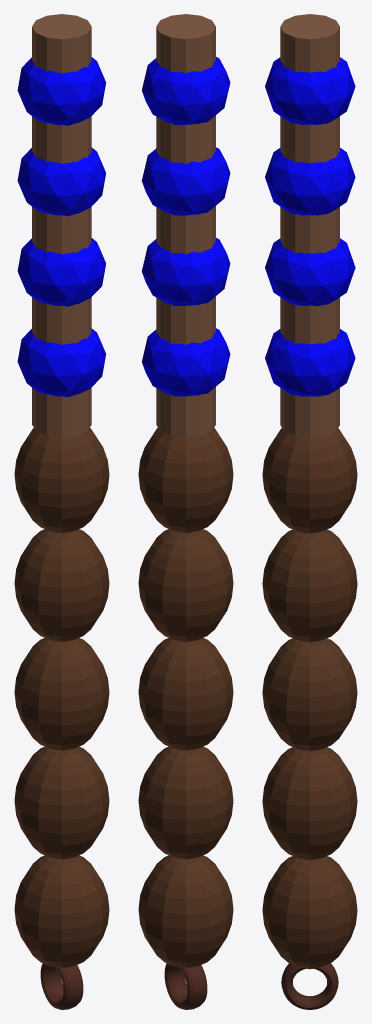
File: Wand 231.glb
3 renders of one model, left to right at view 1: azimuth 30°, elevation 25°; view 2: azimuth 210°, elevation 25°; view 3: azimuth 270°, elevation 25°, orthographic.
Parts seen in each view (by area): view 1: GeneratedWand; view 2: GeneratedWand; view 3: GeneratedWand.
Boxes of the visible parts, bbox=[...] form: GeneratedWand: bbox=[14, 14, 109, 1009]; GeneratedWand: bbox=[138, 14, 233, 1009]; GeneratedWand: bbox=[262, 14, 357, 1009].
Size of the model in its own units: 0.0447 by 0.5114 by 0.0449.
